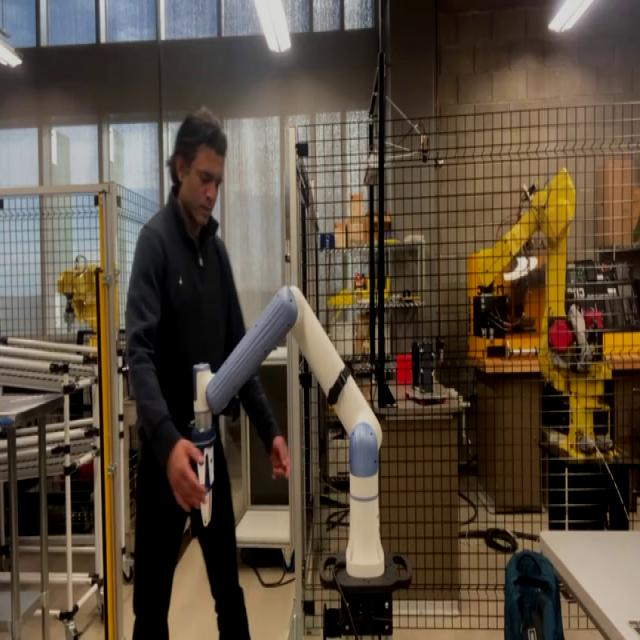robot: (182, 276, 392, 589)
